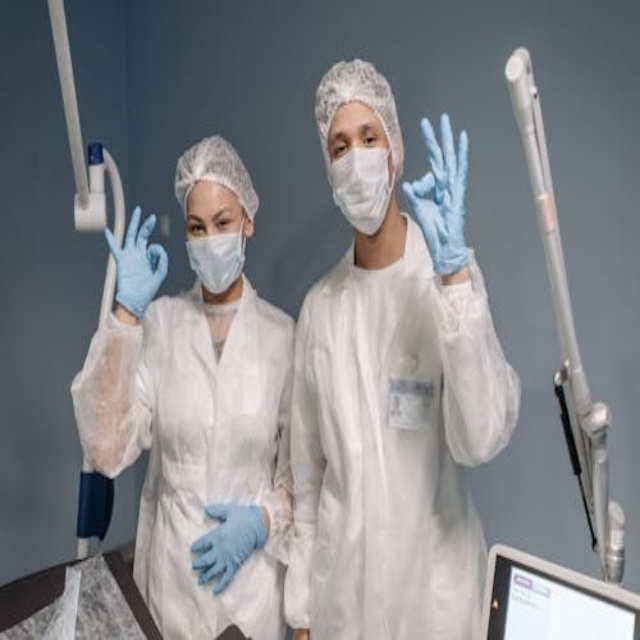Guantes: (401, 111, 476, 276), (97, 201, 169, 316), (189, 496, 265, 598)
Mascara: (329, 142, 394, 234), (186, 216, 247, 294)
Sin_gafas: (328, 113, 383, 159), (186, 201, 239, 228)
